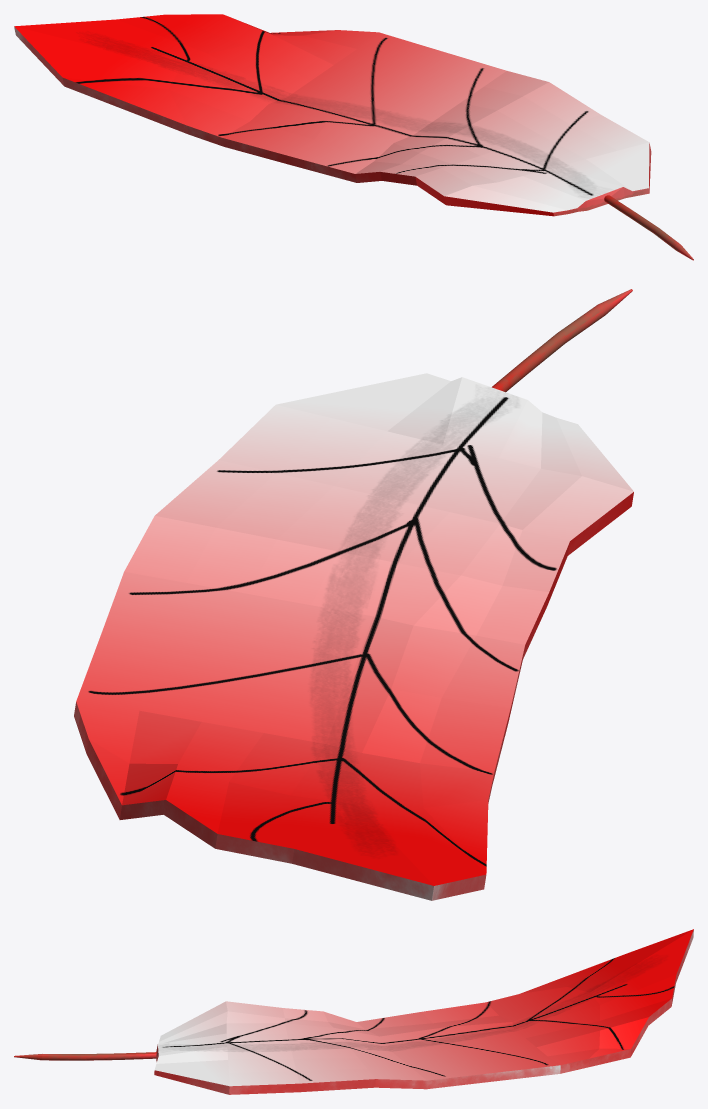
Rendered from Pluma.fbx.
The picture shows the model from 3 angles, top to bottom: view 1: azimuth 30°, elevation 25°; view 2: azimuth 150°, elevation 25°; view 3: azimuth 270°, elevation 25°; orthographic projection. The views are drawn at different scales.
Parts seen in each view (by area): view 1: Plane.005; view 2: Plane.005; view 3: Plane.005.
Boxes of the visible parts, x1=… form: Plane.005: x1=14, y1=14, x2=693, y2=260; Plane.005: x1=74, y1=289, x2=633, y2=900; Plane.005: x1=14, y1=929, x2=693, y2=1094.
Bounding box in the file's own units: 147 × 20.29 × 277.
Materials: 1 (1 with a texture image).
